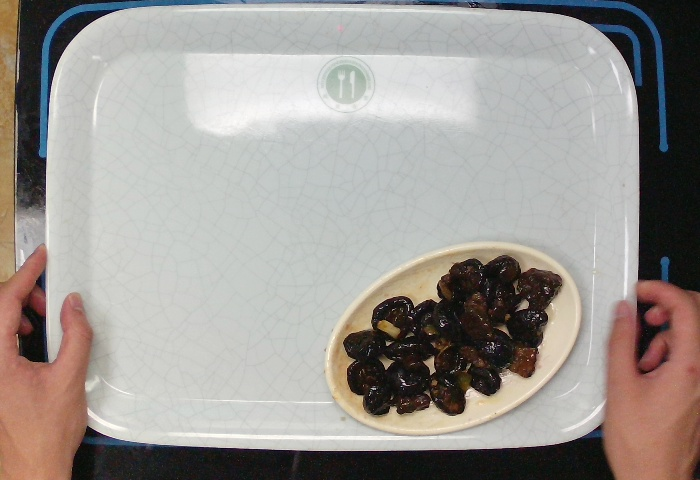JYsf-Tuo_Yuan_Wan: (321, 238, 585, 440)
